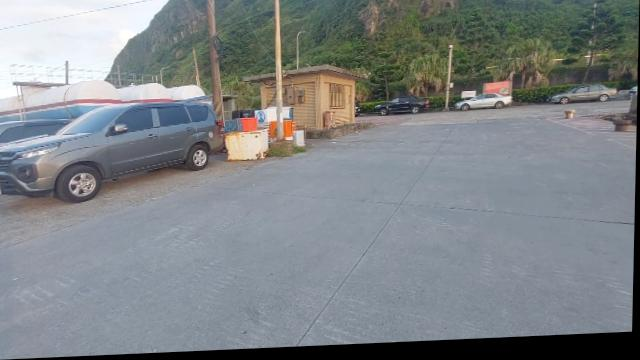pollute: (225, 131, 271, 162), (255, 110, 277, 132), (225, 120, 256, 134), (284, 122, 293, 143), (270, 125, 279, 145), (294, 134, 305, 149), (283, 108, 293, 122)
